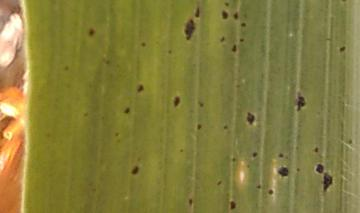tarspot: (183, 18, 195, 41), (322, 170, 333, 193), (294, 94, 306, 112), (275, 164, 289, 177), (245, 111, 255, 125), (172, 95, 181, 108), (129, 165, 139, 176), (220, 8, 229, 20), (135, 83, 145, 93), (315, 163, 325, 173), (186, 195, 194, 207), (87, 25, 95, 36), (122, 105, 131, 114), (196, 99, 205, 108), (139, 39, 147, 49), (232, 10, 240, 20), (230, 43, 238, 53), (218, 33, 226, 43), (194, 6, 200, 19), (239, 19, 247, 28), (338, 44, 346, 53), (251, 149, 258, 159), (230, 199, 236, 210), (176, 146, 184, 154), (62, 63, 70, 71), (346, 136, 354, 144), (195, 121, 202, 130), (166, 47, 173, 55), (81, 111, 89, 118), (222, 123, 229, 131), (277, 151, 285, 158), (267, 186, 273, 195), (313, 144, 319, 153), (224, 1, 231, 8), (238, 36, 245, 43), (230, 155, 237, 162), (216, 178, 222, 186), (105, 56, 110, 65), (296, 164, 301, 173), (113, 131, 120, 137), (255, 183, 262, 189)
